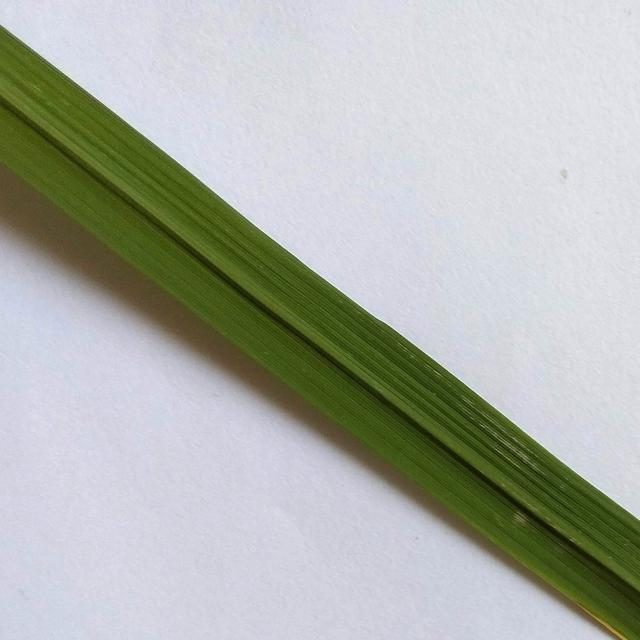Rice_Healthy: (0, 28, 640, 640)
